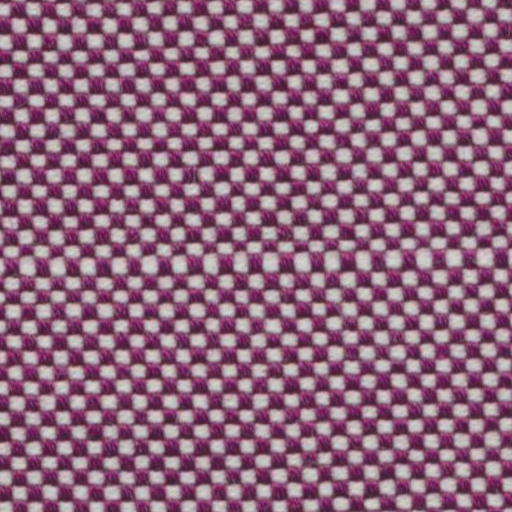TuoSha: (8, 226, 504, 290)
